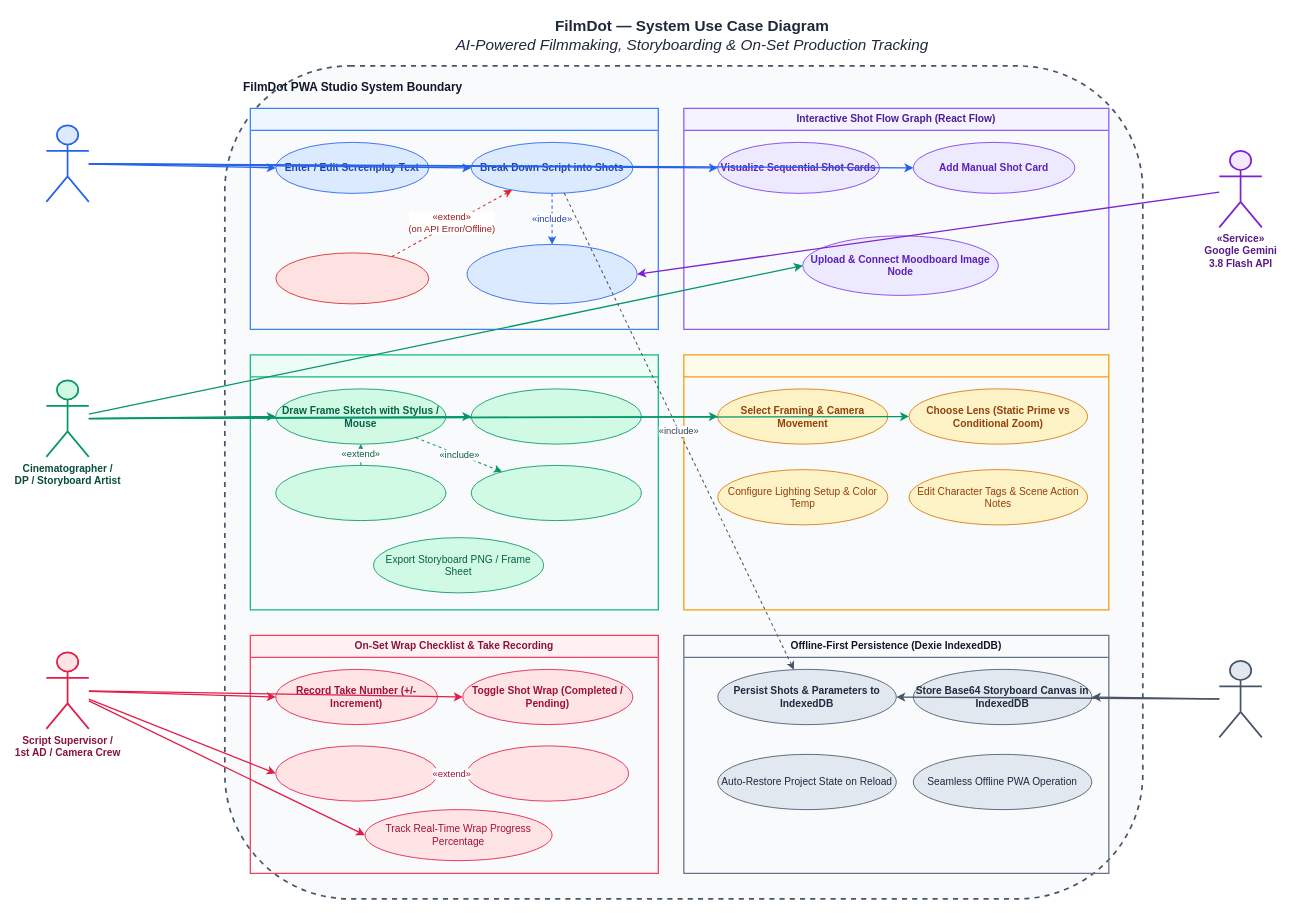
The diagram is 1297 pixels wide and 914 high, and some of its shapes have lost their labels. The shapes that lost their labels are listed below. From the top down, each one's box as (x1, y1, x2, y2) in pixels, then its label:
(45, 124, 89, 202): Director / Screenwriter
(249, 107, 659, 330): Screenplay & AI Breakdown Subsystem
(275, 252, 429, 304): Fallback to Offline Demo Shots
(466, 244, 637, 304): Infer Cinematic Specs with Gemini 3.8 Flash
(470, 388, 641, 444): Customize Brush, Eraser, Color & Opacity
(275, 465, 446, 521): Undo / Redo Canvas Strokes (Ctrl+Z / Ctrl+C)
(249, 354, 659, 610): Stylus Storyboard Canvas (Fabric.js)
(470, 465, 641, 521): Auto-Save Revision History (20-Roll Snapshots)
(683, 354, 1109, 610): Cinematic Parameter Customization
(1218, 660, 1262, 738): «Database» Dexie IndexedDB (Local Storage)
(275, 745, 437, 801): Check 6-Dept Production Checklist
(466, 745, 629, 801): Add Custom Checklist Task
